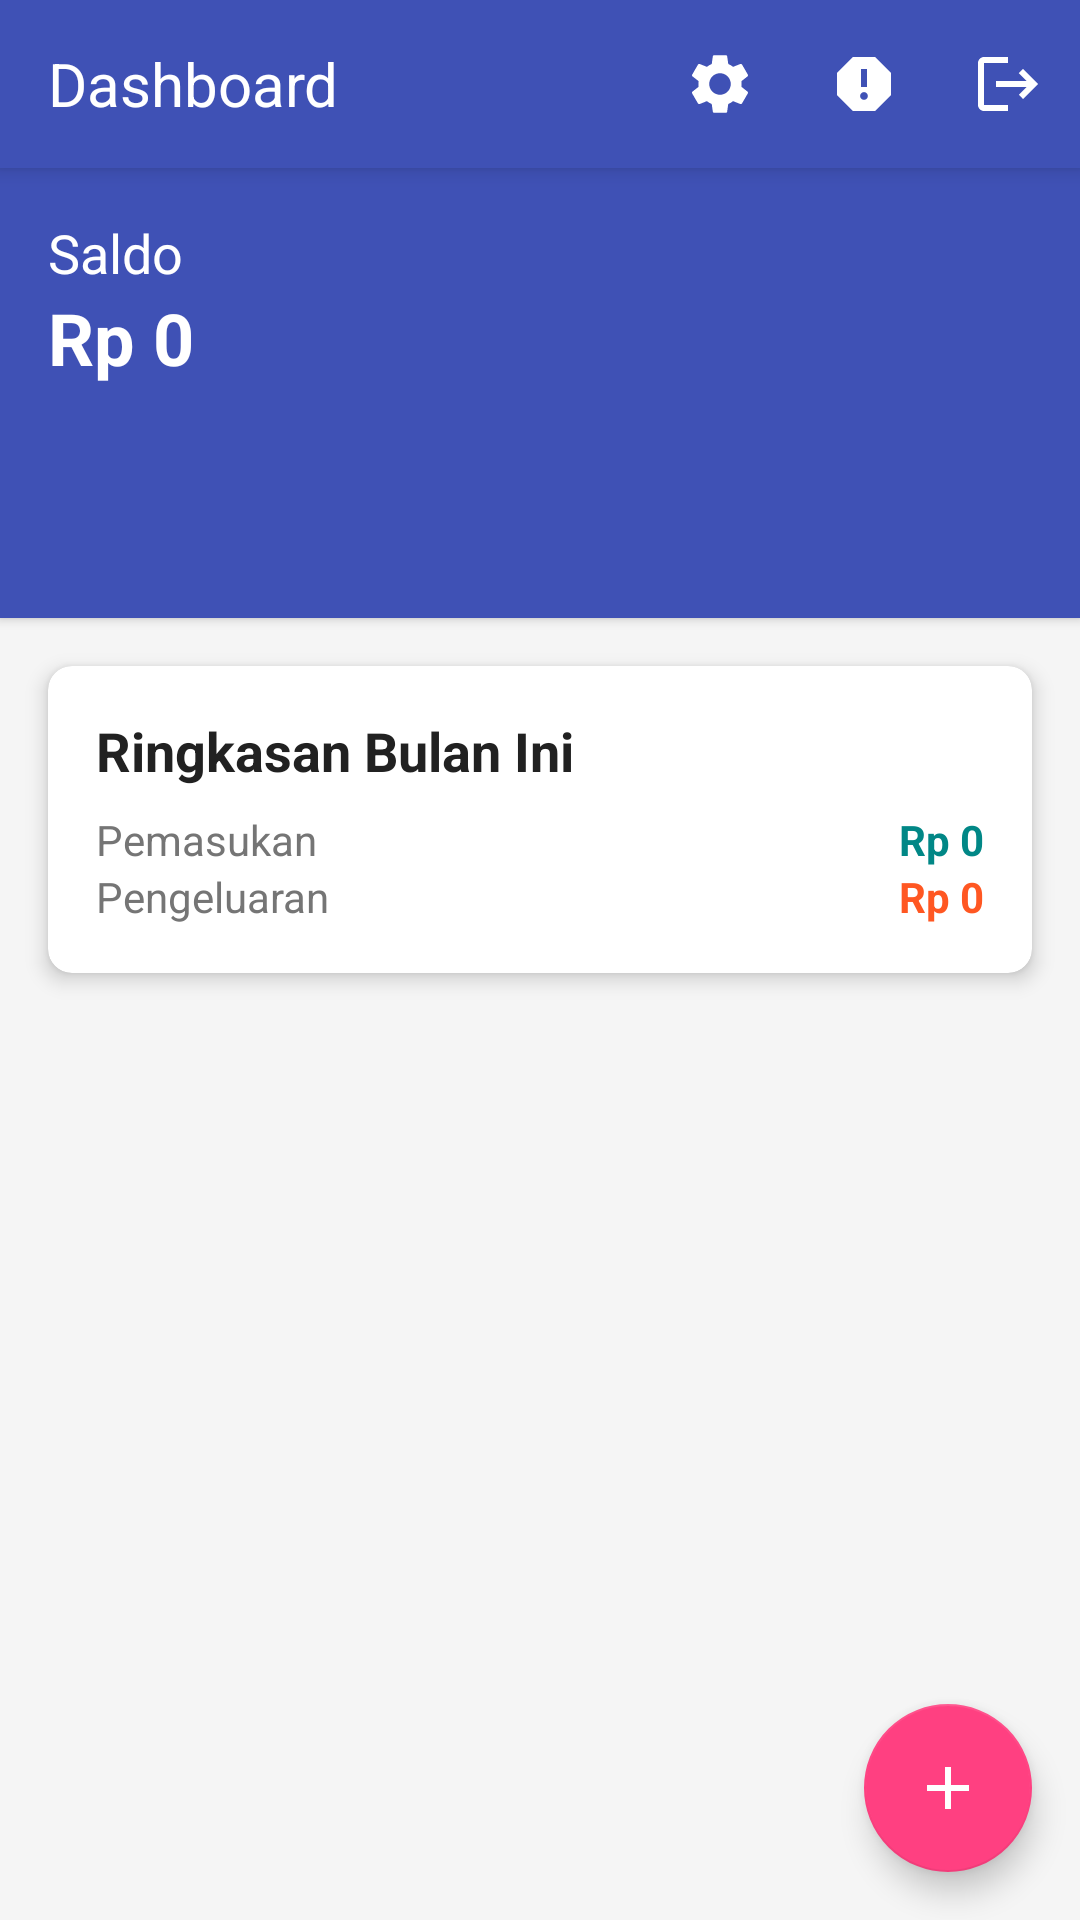

Where to tap for icons on this 1080 × 1920 app screen, as [x,y]:
add: [948,1788]
Report: [864,84]
Settings: [720,84]
